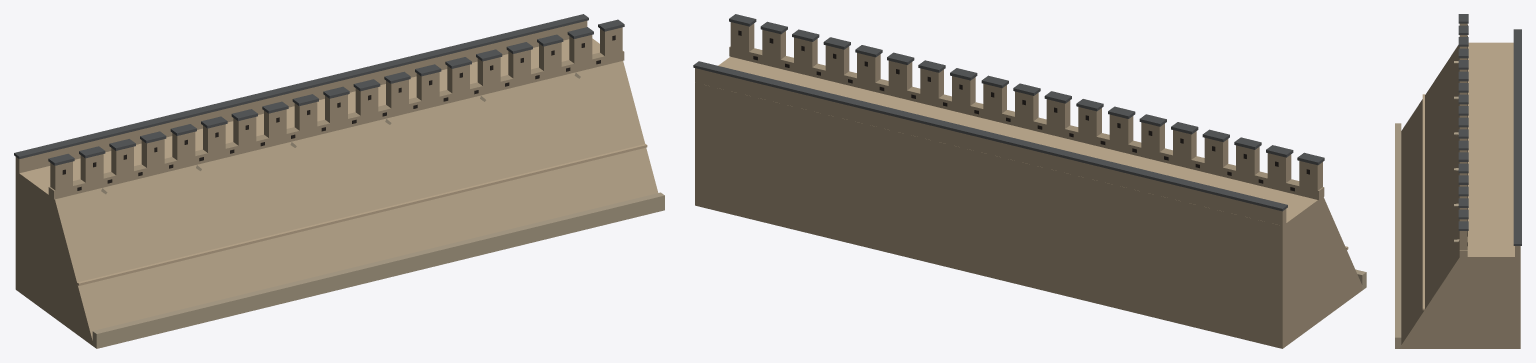
The picture shows the model from 3 angles, left to right: view 1: azimuth 30°, elevation 25°; view 2: azimuth 150°, elevation 25°; view 3: azimuth 270°, elevation 25°; orthographic projection. The views are drawn at different scales.
Visible parts, largest first — view 1: K01; view 2: K01; view 3: K01.
Part boxes in pixels (bbox=[...]): K01: bbox=[14, 14, 664, 348]; K01: bbox=[693, 14, 1366, 348]; K01: bbox=[1395, 14, 1521, 348].
Size of the model in its own units: 40.15 by 10.48 by 9.99.
